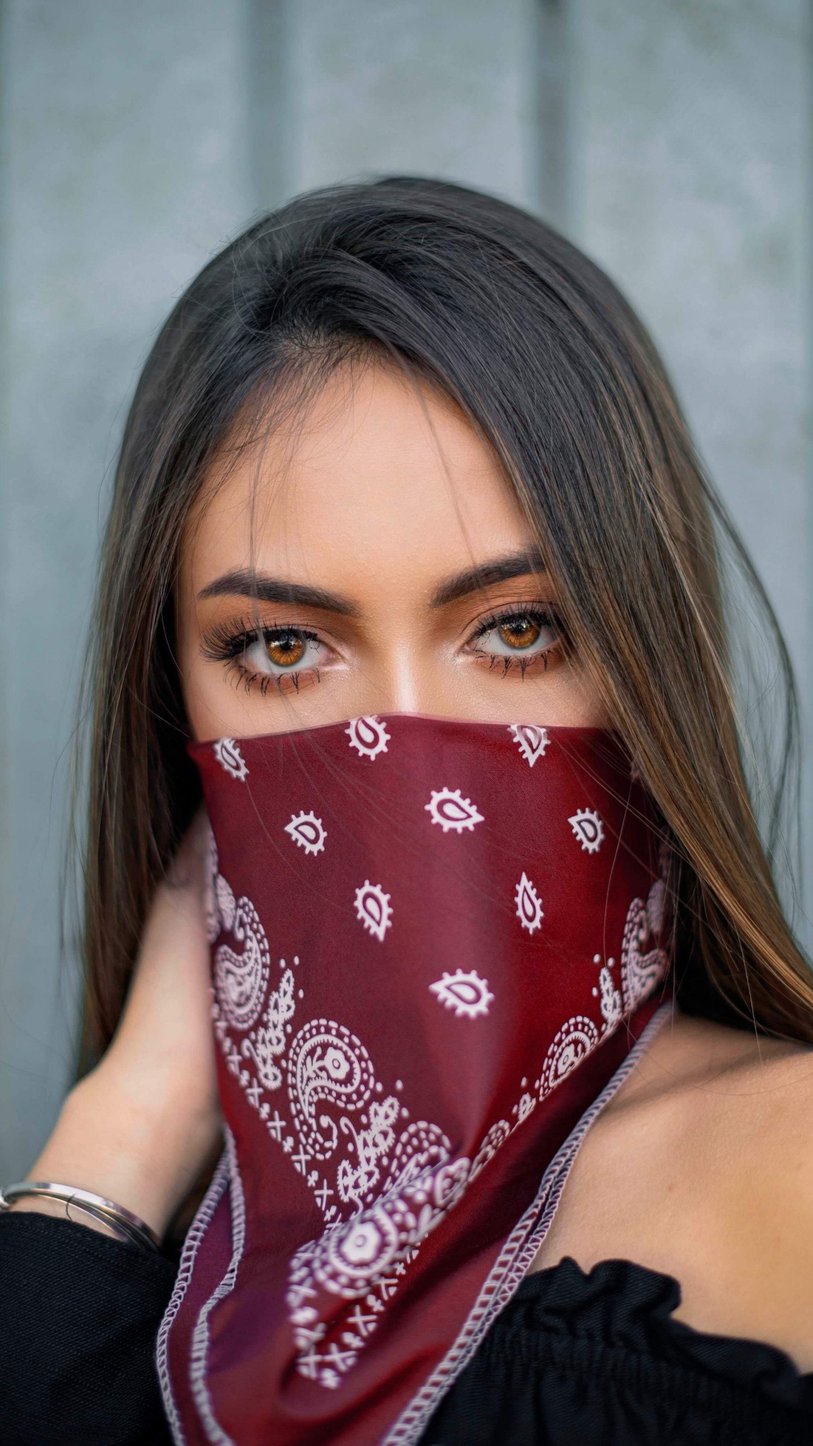scarf-kerchief: (158, 700, 745, 1446)
